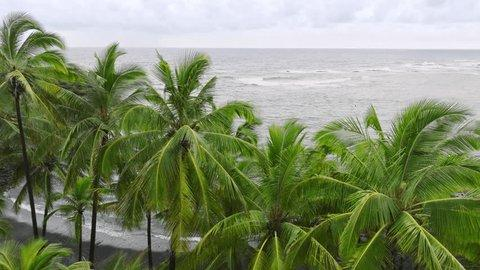coconut_tree: (324, 113, 479, 267), (116, 72, 258, 223), (52, 62, 141, 187)
